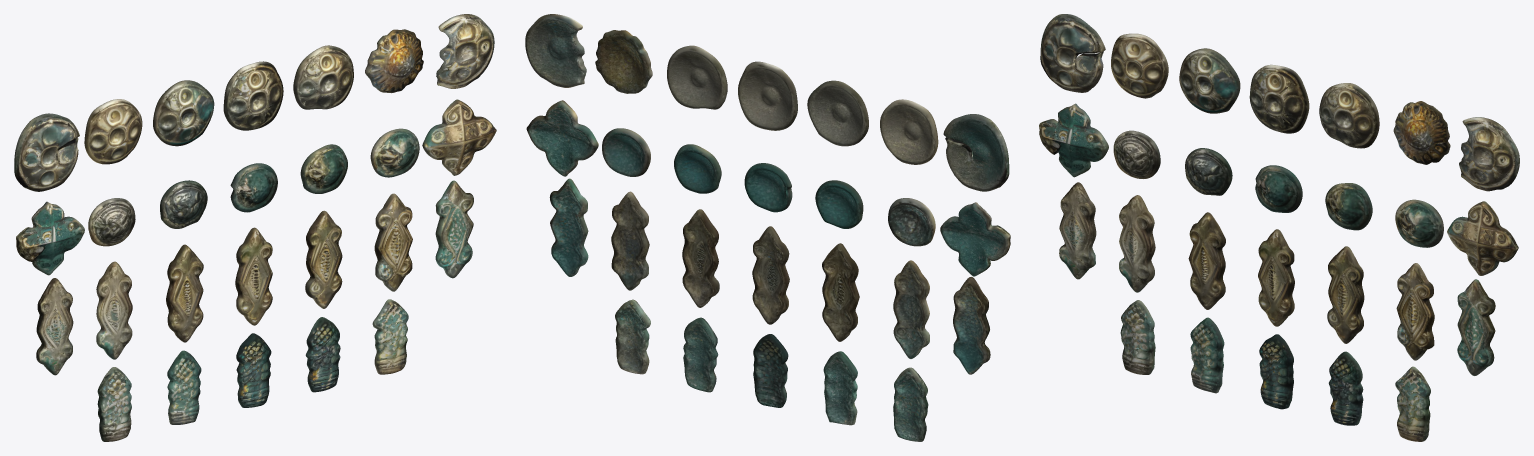
Rendered from 035-nabor-bronzovyh-blyashek-i-nakladok.glb.
3 renders of one model, left to right at view 1: azimuth 30°, elevation 25°; view 2: azimuth 150°, elevation 25°; view 3: azimuth 330°, elevation 25°, orthographic.
Visible parts, largest first — view 1: node_0; view 2: node_0; view 3: node_0.
Boxes of the visible parts, left/top/right/bottom form: node_0: left=14, top=14, right=496, bottom=441; node_0: left=525, top=14, right=1010, bottom=441; node_0: left=1039, top=14, right=1519, bottom=441.
Bounding box in the file's own units: 1.04 × 0.7079 × 0.0359.
1 material, 1 textured.
